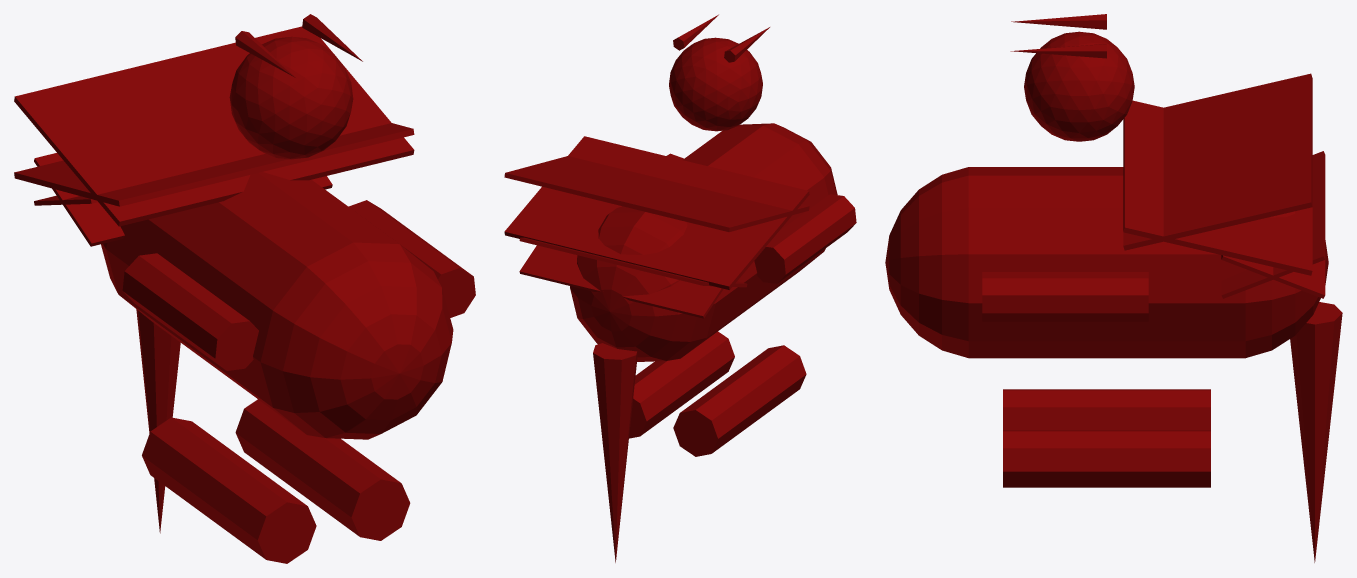
The model's file is VampireLord_A_Basic.glb.
3 renders of one model, left to right at view 1: azimuth 30°, elevation 25°; view 2: azimuth 150°, elevation 25°; view 3: azimuth 270°, elevation 25°, orthographic. The views are drawn at different scales.
Parts seen in each view (by area): view 1: world; view 2: world; view 3: world.
Part boxes in pixels (left/top/right/bottom): world: left=14, top=14, right=475, bottom=563; world: left=504, top=14, right=856, bottom=562; world: left=885, top=14, right=1342, bottom=562.
Bounding box in the file's own units: 2.2 × 4.26 × 3.3.
